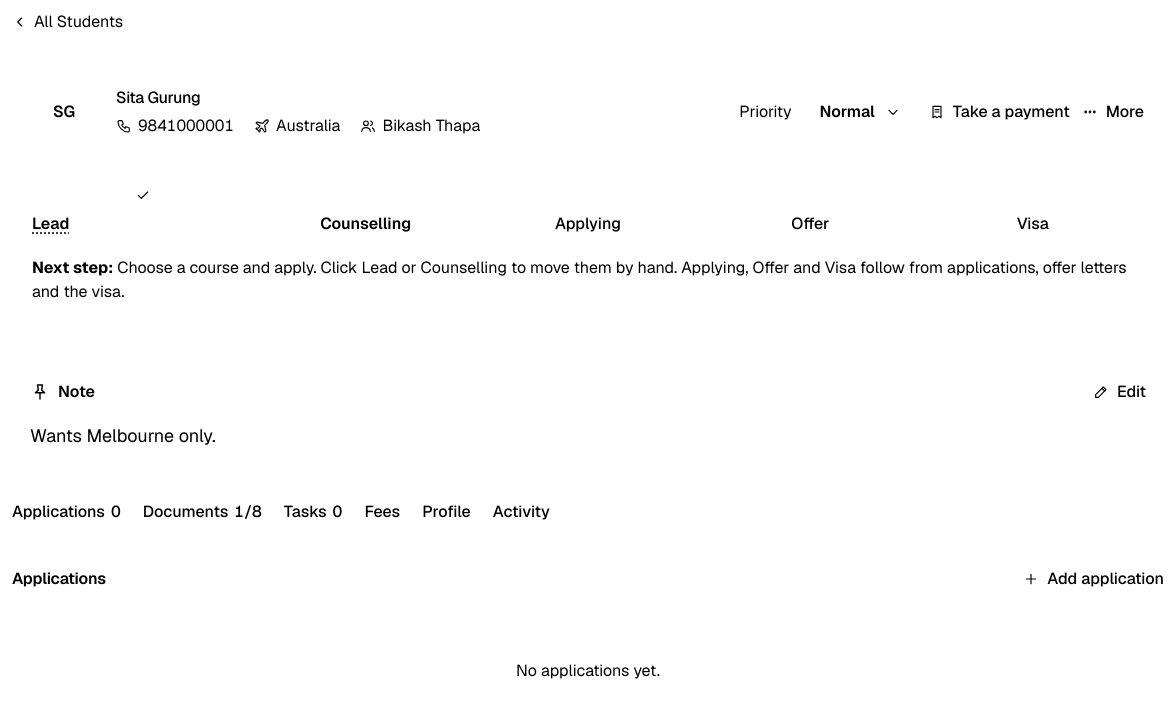
Test: the Fees tab, for an Admin › says when the fees can't be loaded
The image size is (1176, 720).
Click the tab "Fees" at {"x": 382, "y": 512}, box [364,490,400,534]
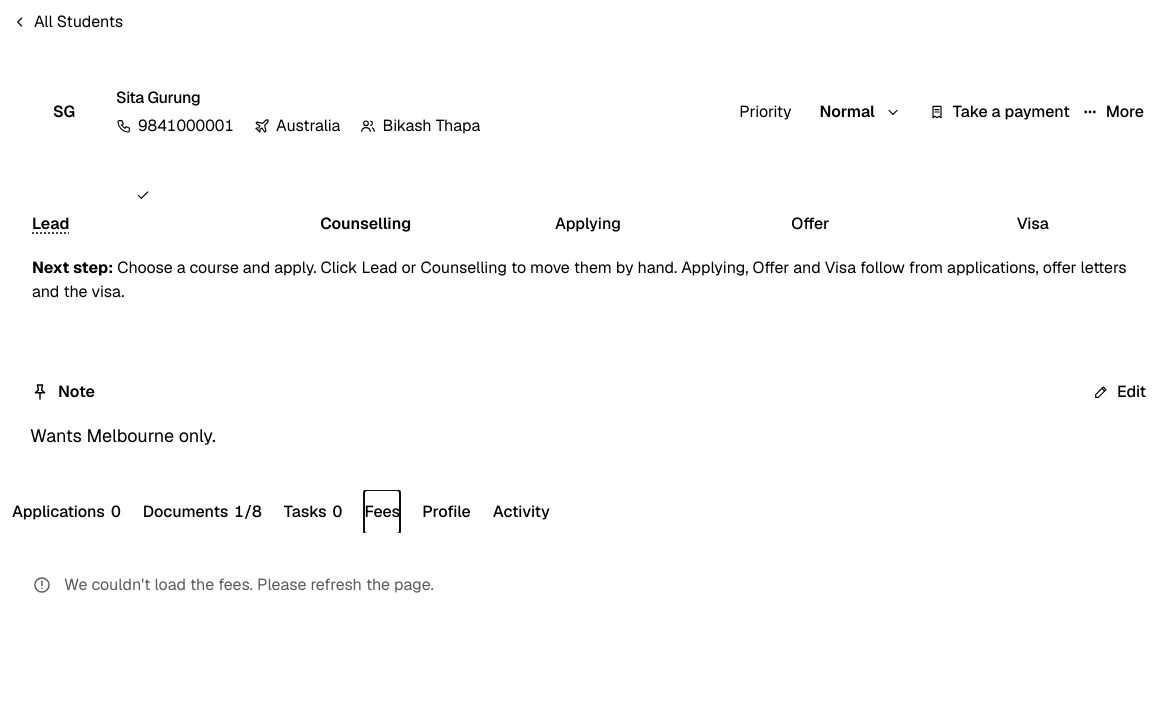
Check: the text "We couldn't load the fees. Please refresh the page." is shown, box [64,573,434,597]
